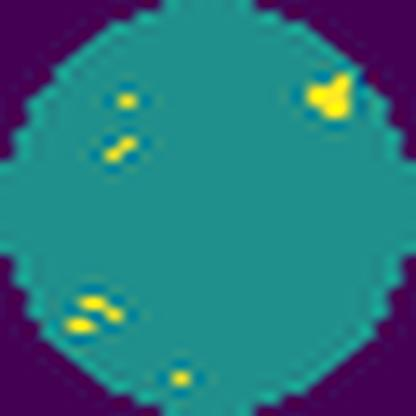Loc: (63, 293, 128, 343), (301, 66, 352, 126)
